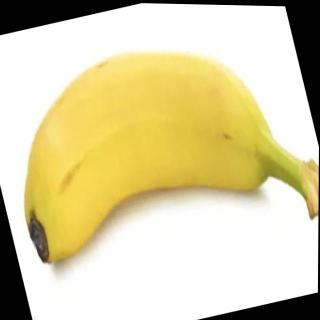banana: (0, 16, 290, 276)
